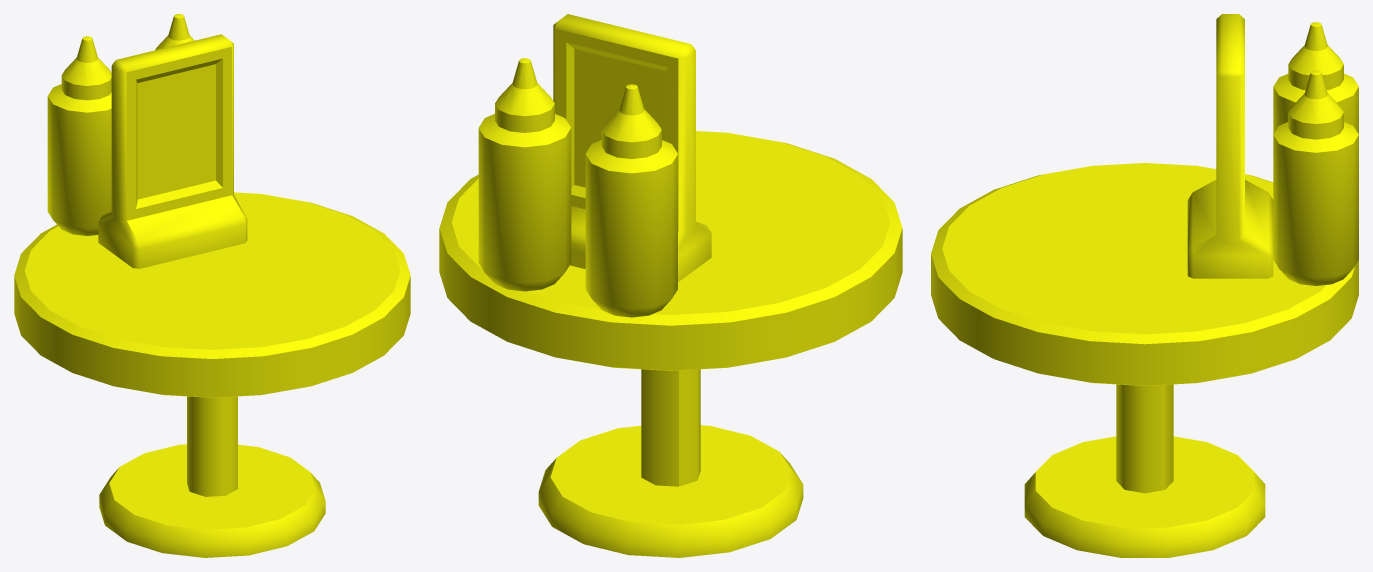
File: table_round_A_small_decorated.gltf
3 views of the same model, side by side, from view 1: azimuth 30°, elevation 25°; view 2: azimuth 150°, elevation 25°; view 3: azimuth 270°, elevation 25° (orthographic). The views are drawn at different scales.
Visible parts, largest first — view 1: table_round_A_small_decorated; view 2: table_round_A_small_decorated; view 3: table_round_A_small_decorated.
Part boxes in pixels (x1,y1,x2,y2): table_round_A_small_decorated: (14, 14, 410, 557); table_round_A_small_decorated: (439, 14, 902, 557); table_round_A_small_decorated: (931, 14, 1358, 557).
Bounding box in the file's own units: 1.5 × 1.8 × 1.5.
Materials: 1 (1 with a texture image).
